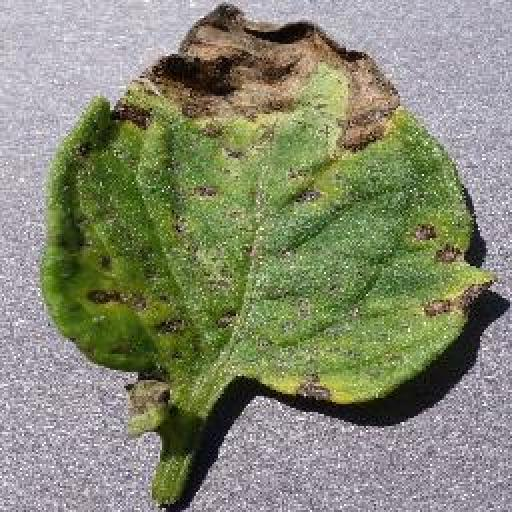Septoria: (42, 4, 500, 405)
